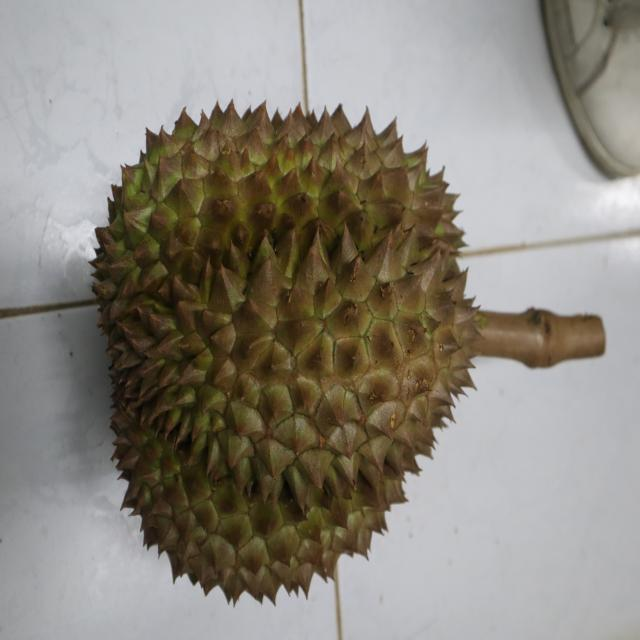mature: (88, 95, 480, 608)
